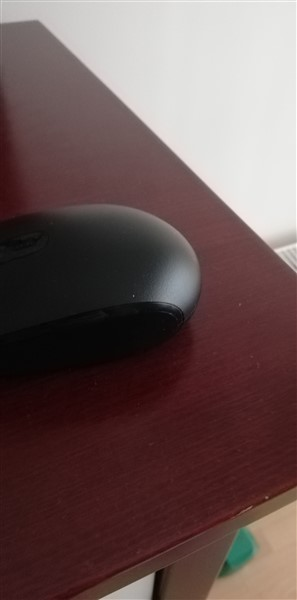mouse: (1, 199, 206, 380)
